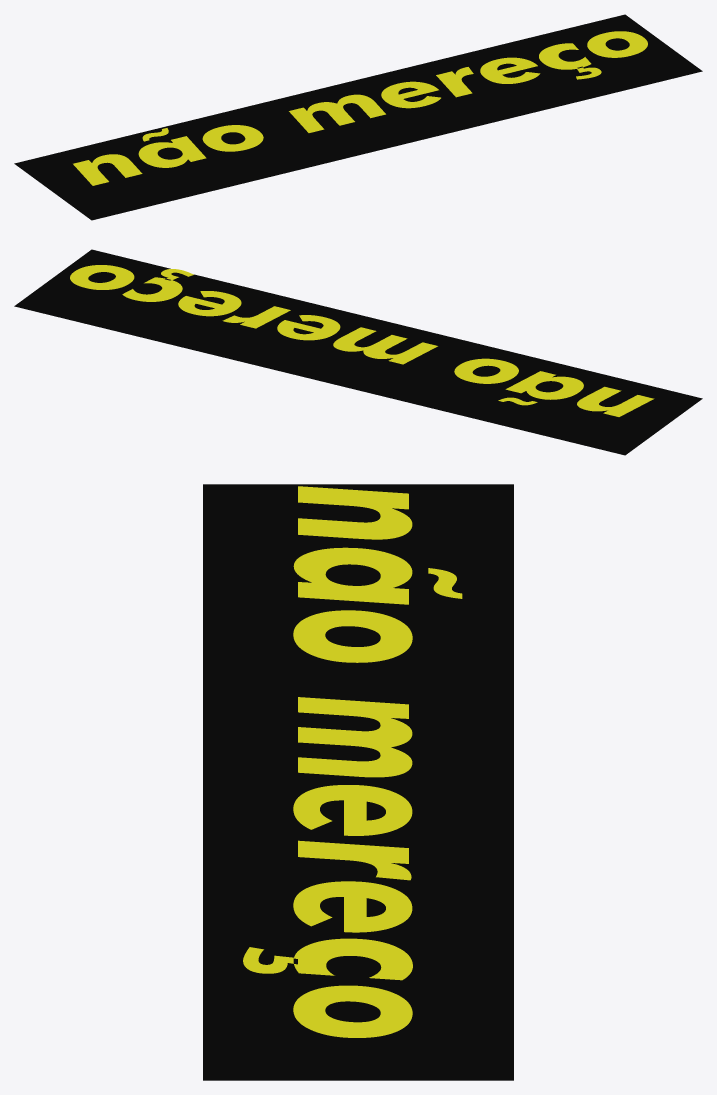
Rendered from naomereco.fbx.
3 views of the same model, one above another, from view 1: azimuth 30°, elevation 25°; view 2: azimuth 150°, elevation 25°; view 3: azimuth 270°, elevation 25° (orthographic). The views are drawn at different scales.
Parts seen in each view (by area): view 1: Plane, cancelado; view 2: Plane, cancelado; view 3: Plane, cancelado.
Boxes of the visible parts, <box> form: Plane: <box>14,14,702,220</box>; cancelado: <box>73,31,647,185</box>; Plane: <box>14,249,702,455</box>; cancelado: <box>70,265,654,416</box>; Plane: <box>203,484,513,1080</box>; cancelado: <box>243,486,462,1037</box>.
Bounding box in the file's own units: 707 × 12.27 × 156.
